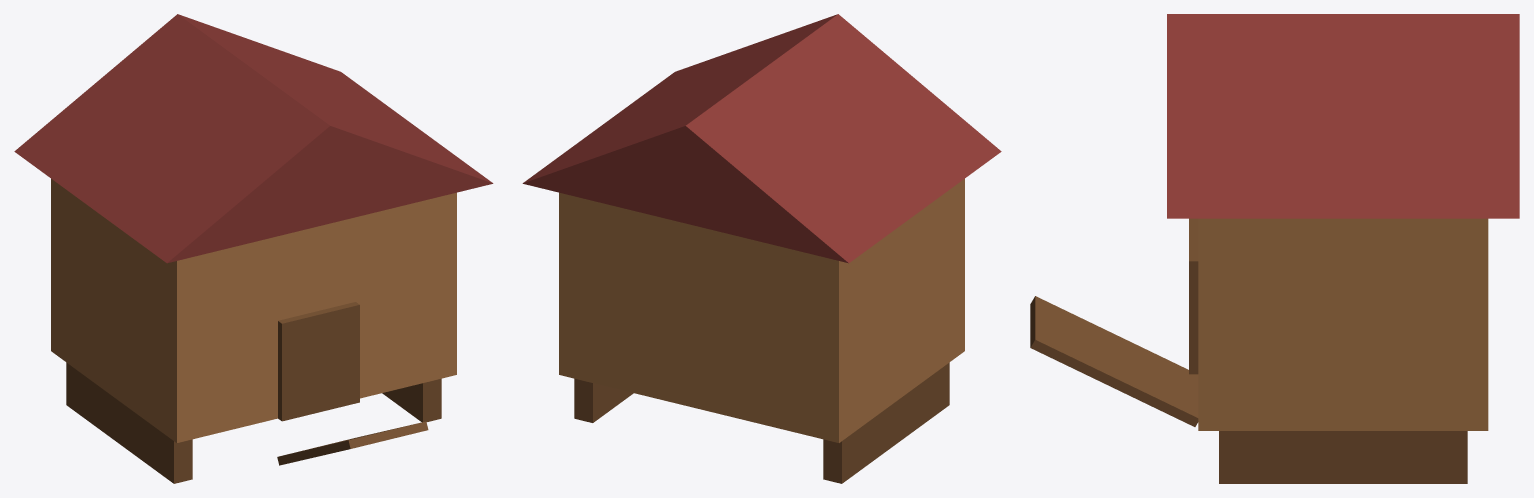
Rendered from coop.glb.
The picture shows the model from 3 angles, left to right: view 1: azimuth 30°, elevation 25°; view 2: azimuth 150°, elevation 25°; view 3: azimuth 270°, elevation 25°; orthographic projection. The views are drawn at different scales.
Visible parts, largest first — view 1: CoopMesh; view 2: CoopMesh; view 3: CoopMesh.
Boxes of the visible parts, box(x1,y1,x2,y2) form: CoopMesh: box(14, 14, 493, 483); CoopMesh: box(522, 14, 1001, 483); CoopMesh: box(1030, 14, 1519, 483).
Size of the model in its own units: 2.1 by 2.1 by 2.36.
